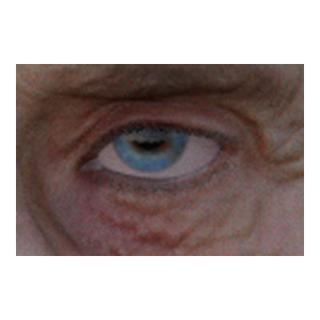pupil: (132, 116, 165, 149)
